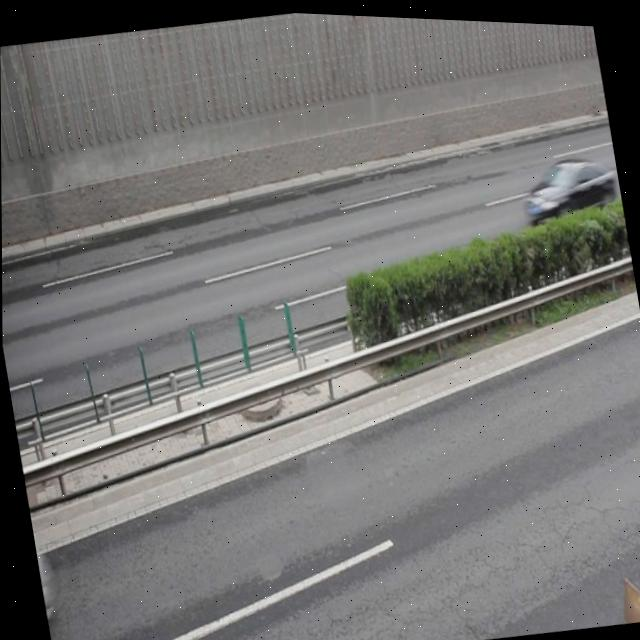car: (515, 144, 613, 234)
